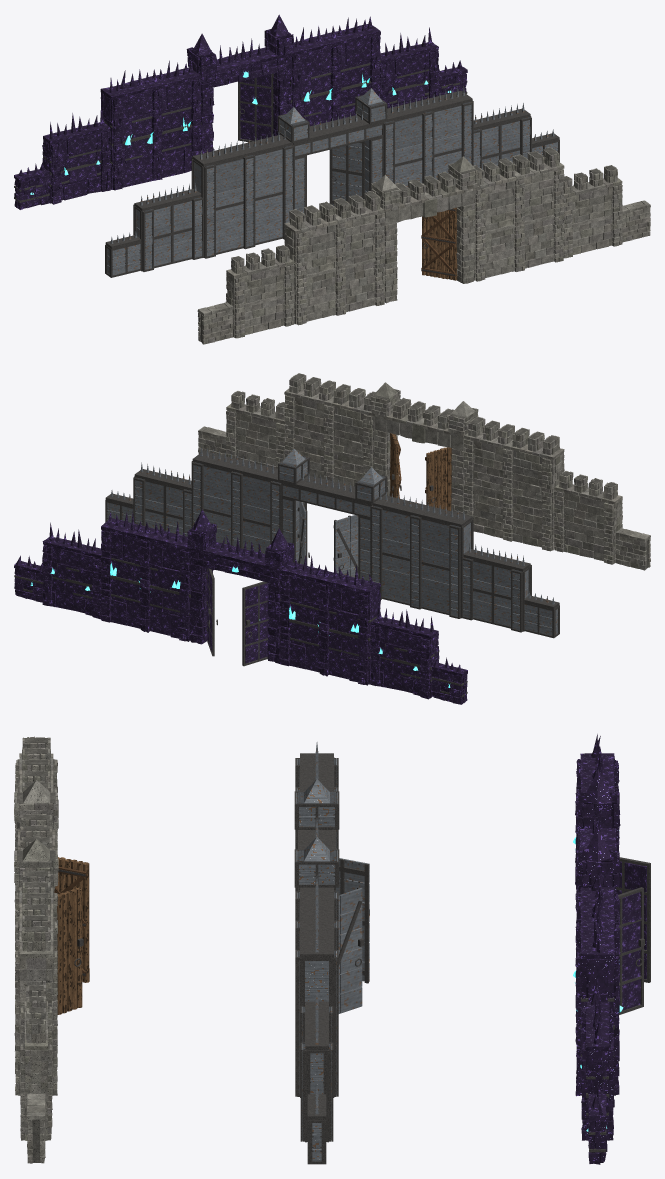
The model's file is muralhas_niveis.glb.
3 renders of one model, top to bottom at view 1: azimuth 30°, elevation 25°; view 2: azimuth 150°, elevation 25°; view 3: azimuth 270°, elevation 25°, orthographic. The views are drawn at different scales.
Parts seen in each view (by area): view 1: muro_pedra_gigante_pedra (×2), muro_obsidiana_gigante_obsidiana (×2), muro_metal_gigante_metal (×2), muro_pedra_grande_pedra (×2), muro_obsidiana_grande_obsidiana (×2), portal_pedra_gigante_pedra, muro_metal_gigante_ferro (×2), portal_obsidiana_gigante_obsidiana, muro_metal_grande_metal (×2), portal_metal_gigante_metal, muro_metal_grande_ferro (×2), portal_metal_gigante_ferro (+11 smaller); view 2: muro_obsidiana_gigante_obsidiana (×2), muro_pedra_gigante_pedra (×2), muro_metal_gigante_metal (×2), muro_pedra_grande_pedra (×2), muro_obsidiana_grande_obsidiana (×2), portal_obsidiana_gigante_obsidiana, muro_metal_gigante_ferro (×2), portal_pedra_gigante_pedra, muro_metal_grande_metal (×2), portal_metal_gigante_metal, muro_metal_grande_ferro (×2), portal_metal_gigante_ferro (+10 smaller); view 3: muro_pedra_gigante_pedra (×2), muro_obsidiana_gigante_obsidiana (×2), muro_metal_gigante_ferro (×2), portal_obsidiana_gigante_obsidiana, muro_pedra_grande_pedra, portal_pedra_gigante_pedra, muro_obsidiana_grande_obsidiana, muro_metal_grande_ferro, portao_pedra_gigante_dir_tronco, portal_metal_gigante_metal, portao_metal_gigante_dir_metal, portao_obsidiana_gigante_dir_obsidiana (+12 smaller).
Boxes of the visible parts, box(x1,y1,x2,y2) form: muro_pedra_gigante_pedra (×2): box(284, 147, 564, 325); muro_obsidiana_gigante_obsidiana (×2): box(100, 16, 380, 190); muro_metal_gigante_metal (×2): box(194, 86, 471, 256); muro_pedra_grande_pedra (×2): box(225, 165, 622, 338); muro_obsidiana_grande_obsidiana (×2): box(42, 27, 439, 204); portal_pedra_gigante_pedra: box(371, 156, 478, 303); muro_metal_gigante_ferro (×2): box(191, 90, 473, 258); portal_obsidiana_gigante_obsidiana: box(186, 14, 293, 153); muro_metal_grande_metal (×2): box(136, 103, 530, 269); portal_metal_gigante_metal: box(280, 88, 385, 213); muro_metal_grande_ferro (×2): box(133, 108, 531, 271); portal_metal_gigante_ferro: box(277, 95, 387, 208); muro_obsidiana_gigante_obsidiana (×2): box(100, 511, 380, 685); muro_pedra_gigante_pedra (×2): box(284, 373, 564, 551); muro_metal_gigante_metal (×2): box(193, 446, 470, 616); muro_pedra_grande_pedra (×2): box(226, 391, 622, 564); muro_obsidiana_grande_obsidiana (×2): box(42, 522, 439, 699); portal_obsidiana_gigante_obsidiana: box(187, 509, 294, 663); muro_metal_gigante_ferro (×2): box(191, 451, 473, 618); portal_pedra_gigante_pedra: box(370, 382, 478, 513); muro_metal_grande_metal (×2): box(135, 462, 528, 629); portal_metal_gigante_metal: box(279, 448, 385, 580); muro_metal_grande_ferro (×2): box(133, 469, 531, 632); portal_metal_gigante_ferro: box(278, 455, 387, 578); muro_pedra_gigante_pedra (×2): box(14, 736, 57, 1095); muro_obsidiana_gigante_obsidiana (×2): box(575, 736, 619, 1096); muro_metal_gigante_ferro (×2): box(295, 753, 338, 1097); portal_obsidiana_gigante_obsidiana: box(575, 770, 620, 893); muro_pedra_grande_pedra: box(20, 985, 52, 1140); portal_pedra_gigante_pedra: box(14, 780, 58, 892); muro_obsidiana_grande_obsidiana: box(580, 978, 614, 1140); muro_metal_grande_ferro: box(300, 1001, 333, 1142); portao_pedra_gigante_dir_tronco: box(57, 887, 82, 1014); portal_metal_gigante_metal: box(296, 779, 337, 884); portao_metal_gigante_dir_metal: box(338, 888, 362, 1013); portao_obsidiana_gigante_dir_obsidiana: box(618, 892, 641, 1010).
Size of the model in its own units: 45.18 by 12.54 by 36.32.
7 materials, 7 textured.
